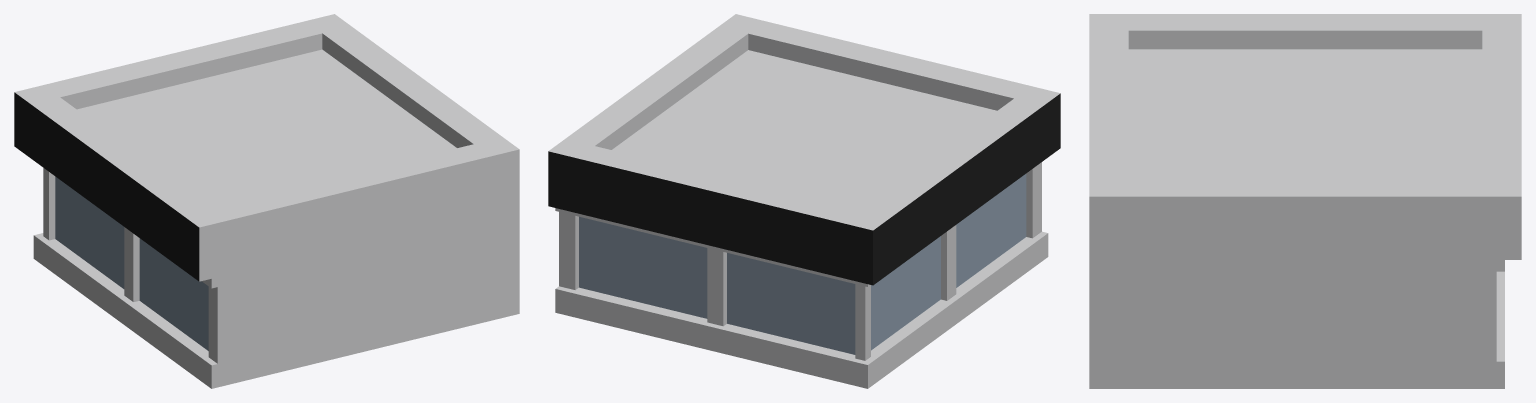
File: Pist2.fbx
3 renders of one model, left to right at view 1: azimuth 30°, elevation 25°; view 2: azimuth 150°, elevation 25°; view 3: azimuth 270°, elevation 25°, orthographic. The views are drawn at different scales.
Visible parts, largest first — view 1: pitsOfficeCorner; view 2: pitsOfficeCorner; view 3: pitsOfficeCorner.
Part boxes in pixels (<box>): pitsOfficeCorner: <box>14,14,519,388</box>; pitsOfficeCorner: <box>548,14,1060,388</box>; pitsOfficeCorner: <box>1089,14,1521,388</box>.
Size of the model in its own units: 1040 by 510 by 1040.
